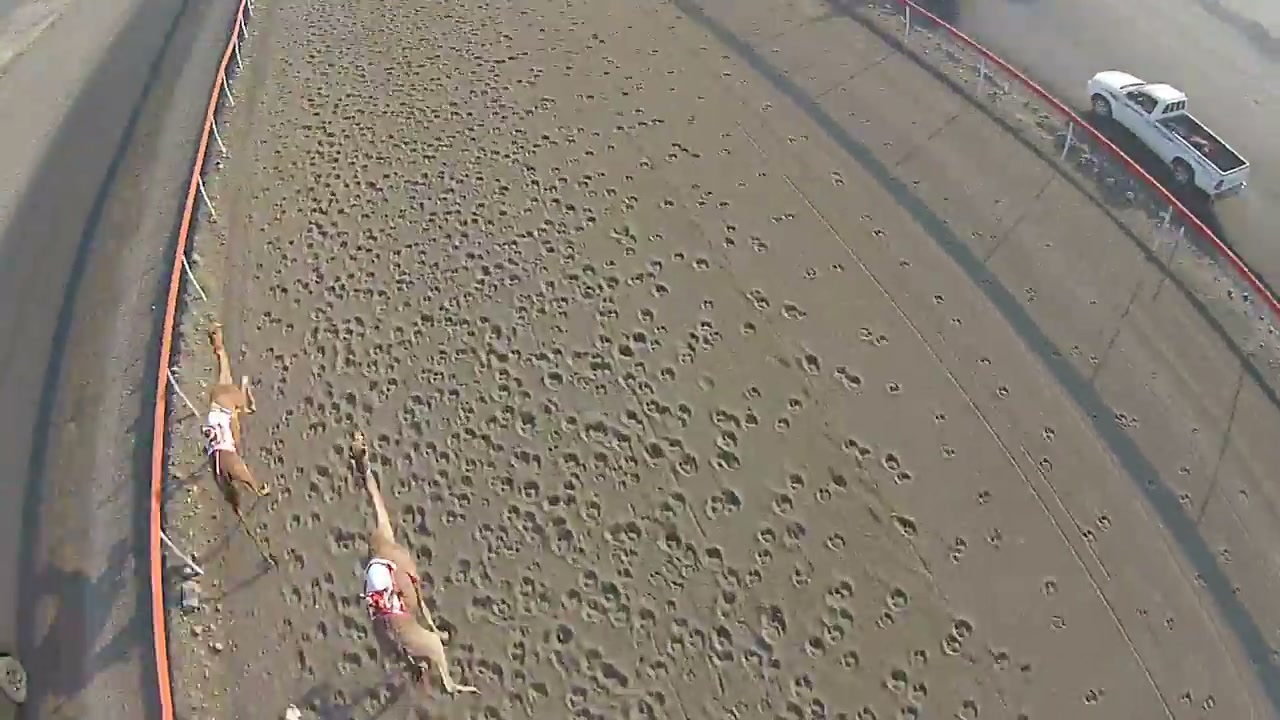animal_foot_print: (201, 0, 1096, 719)
